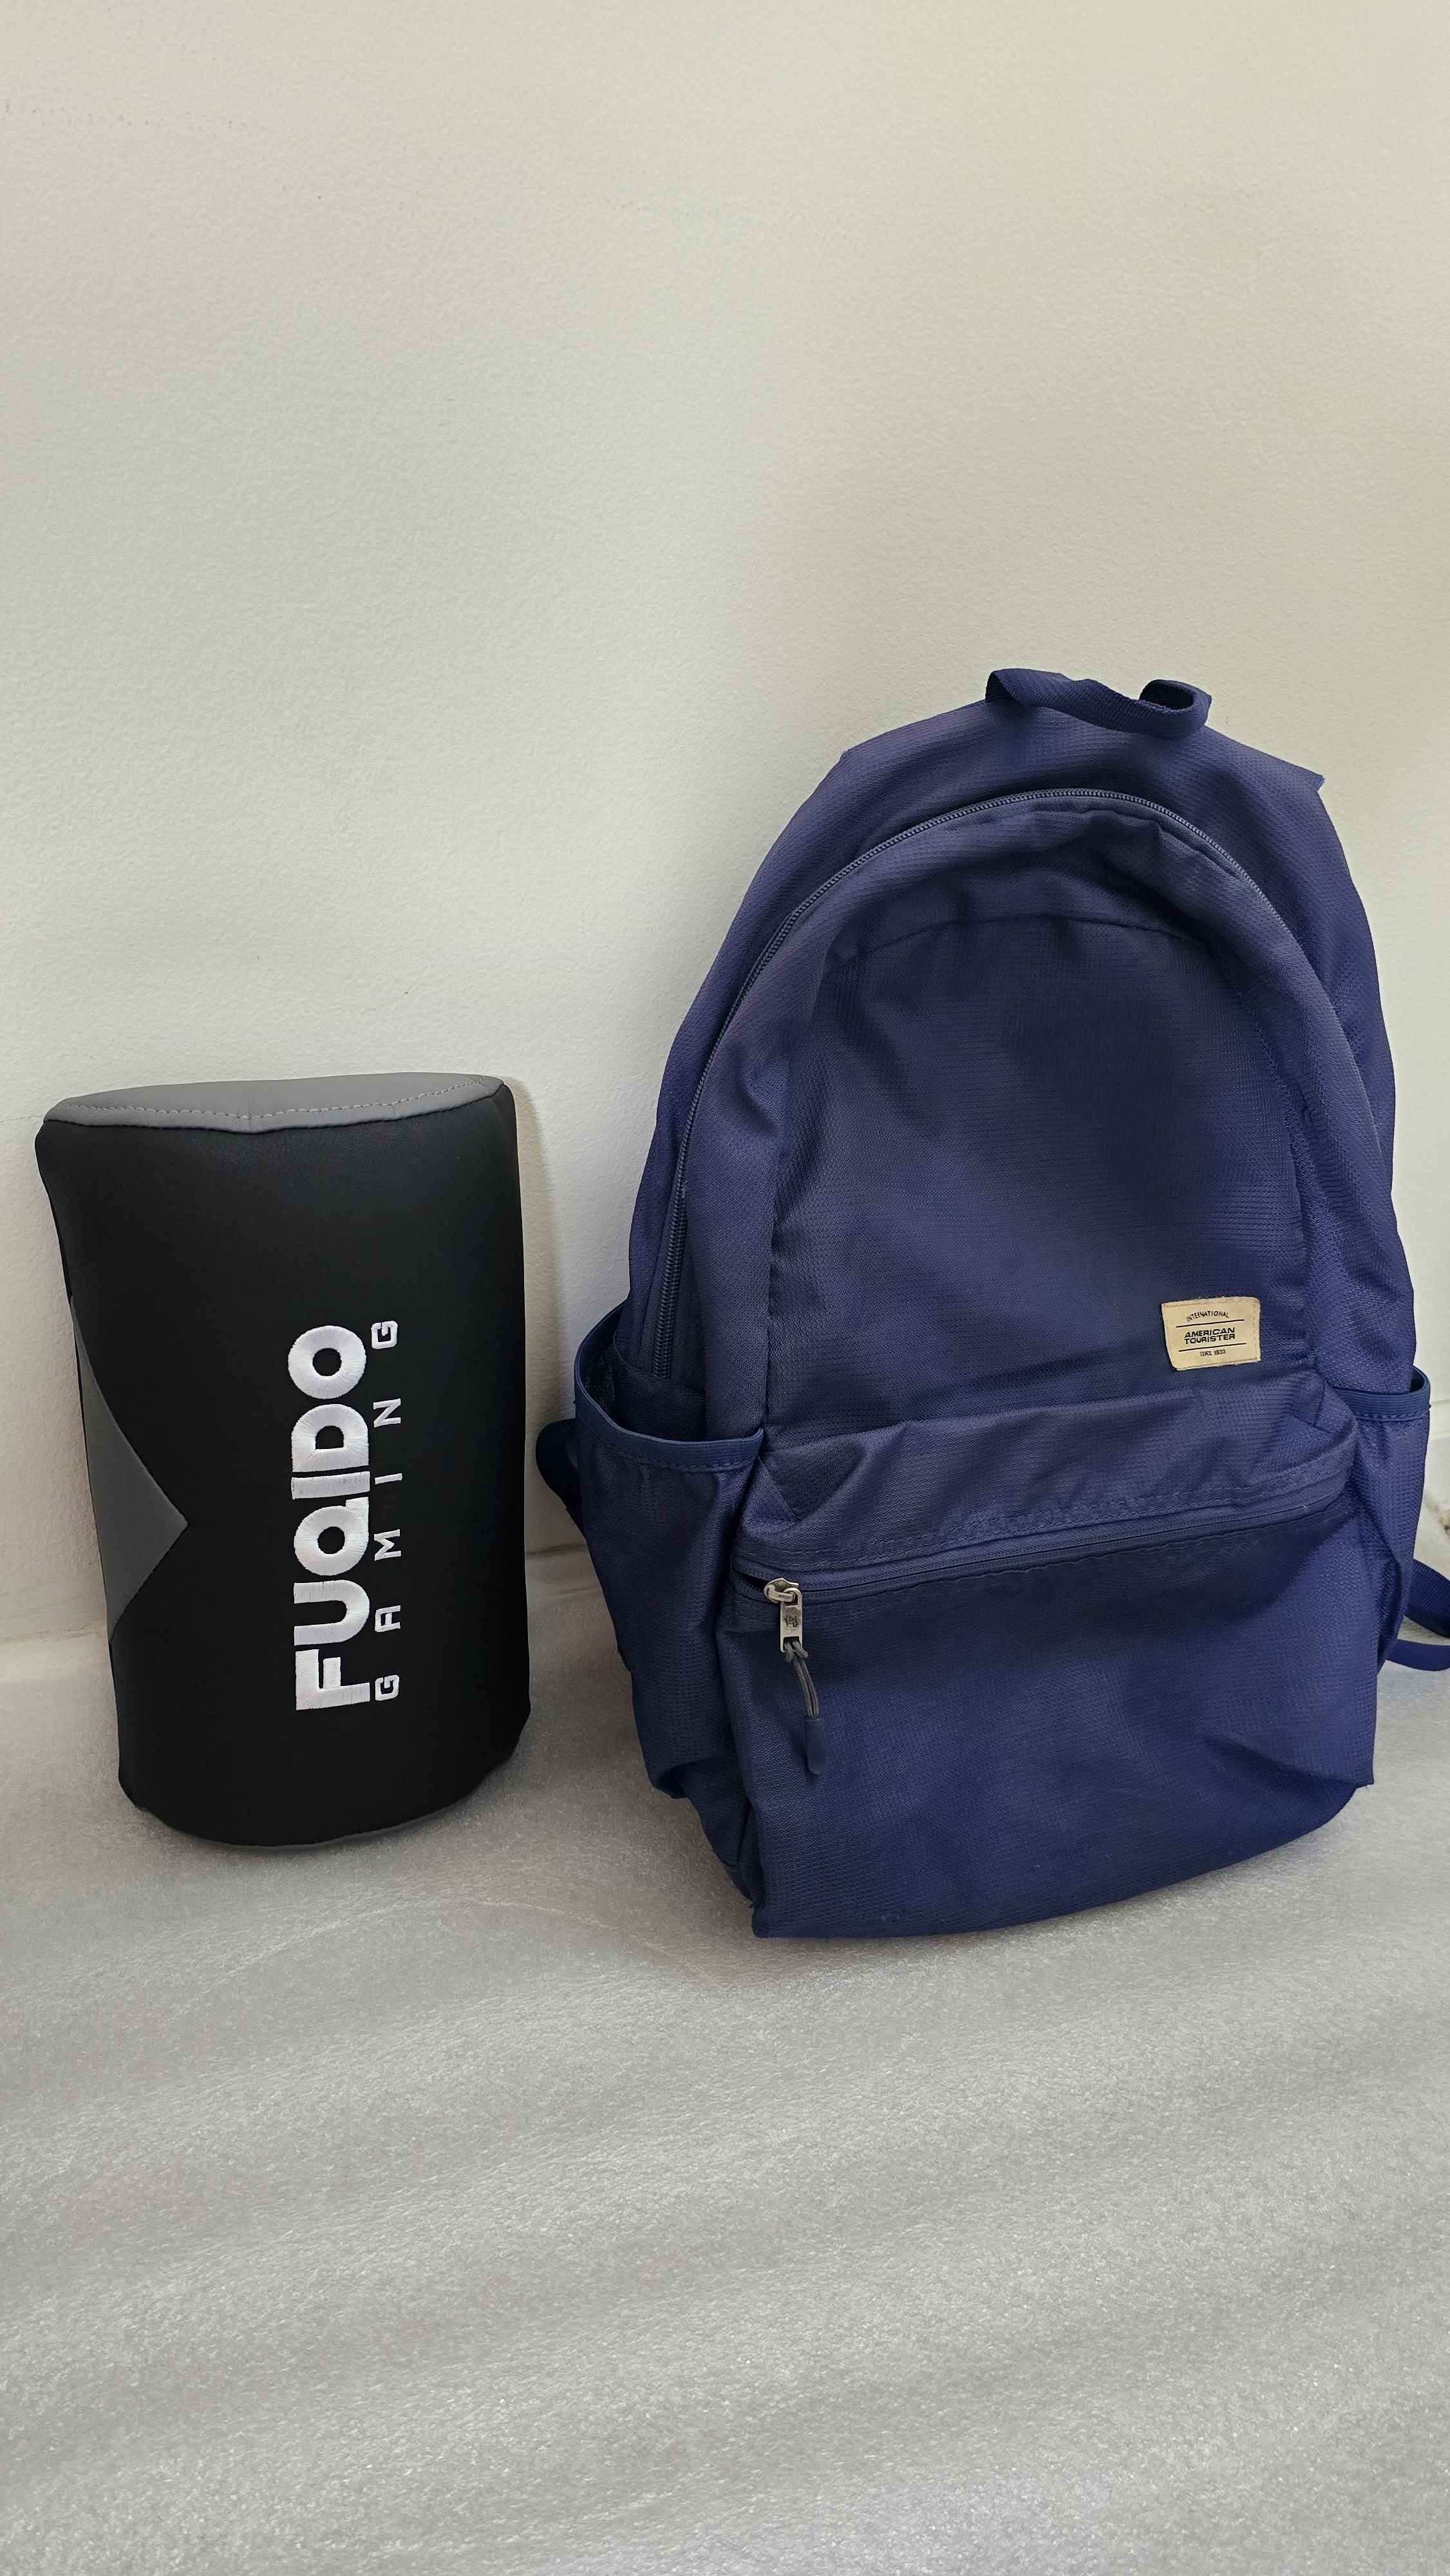bag: (557, 556, 1450, 1959)
